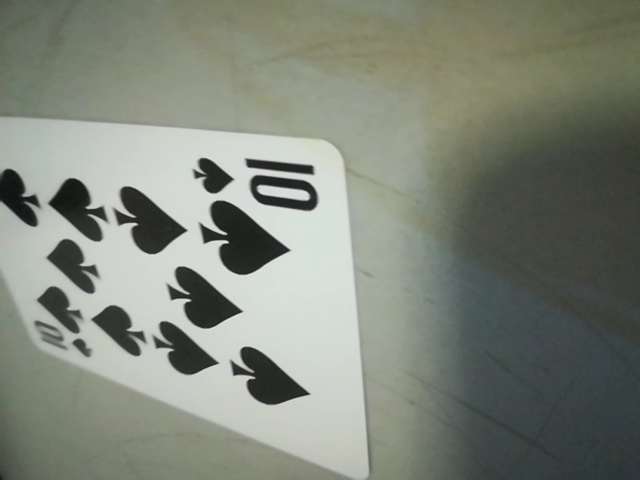ht 10: (195, 146, 340, 224)
